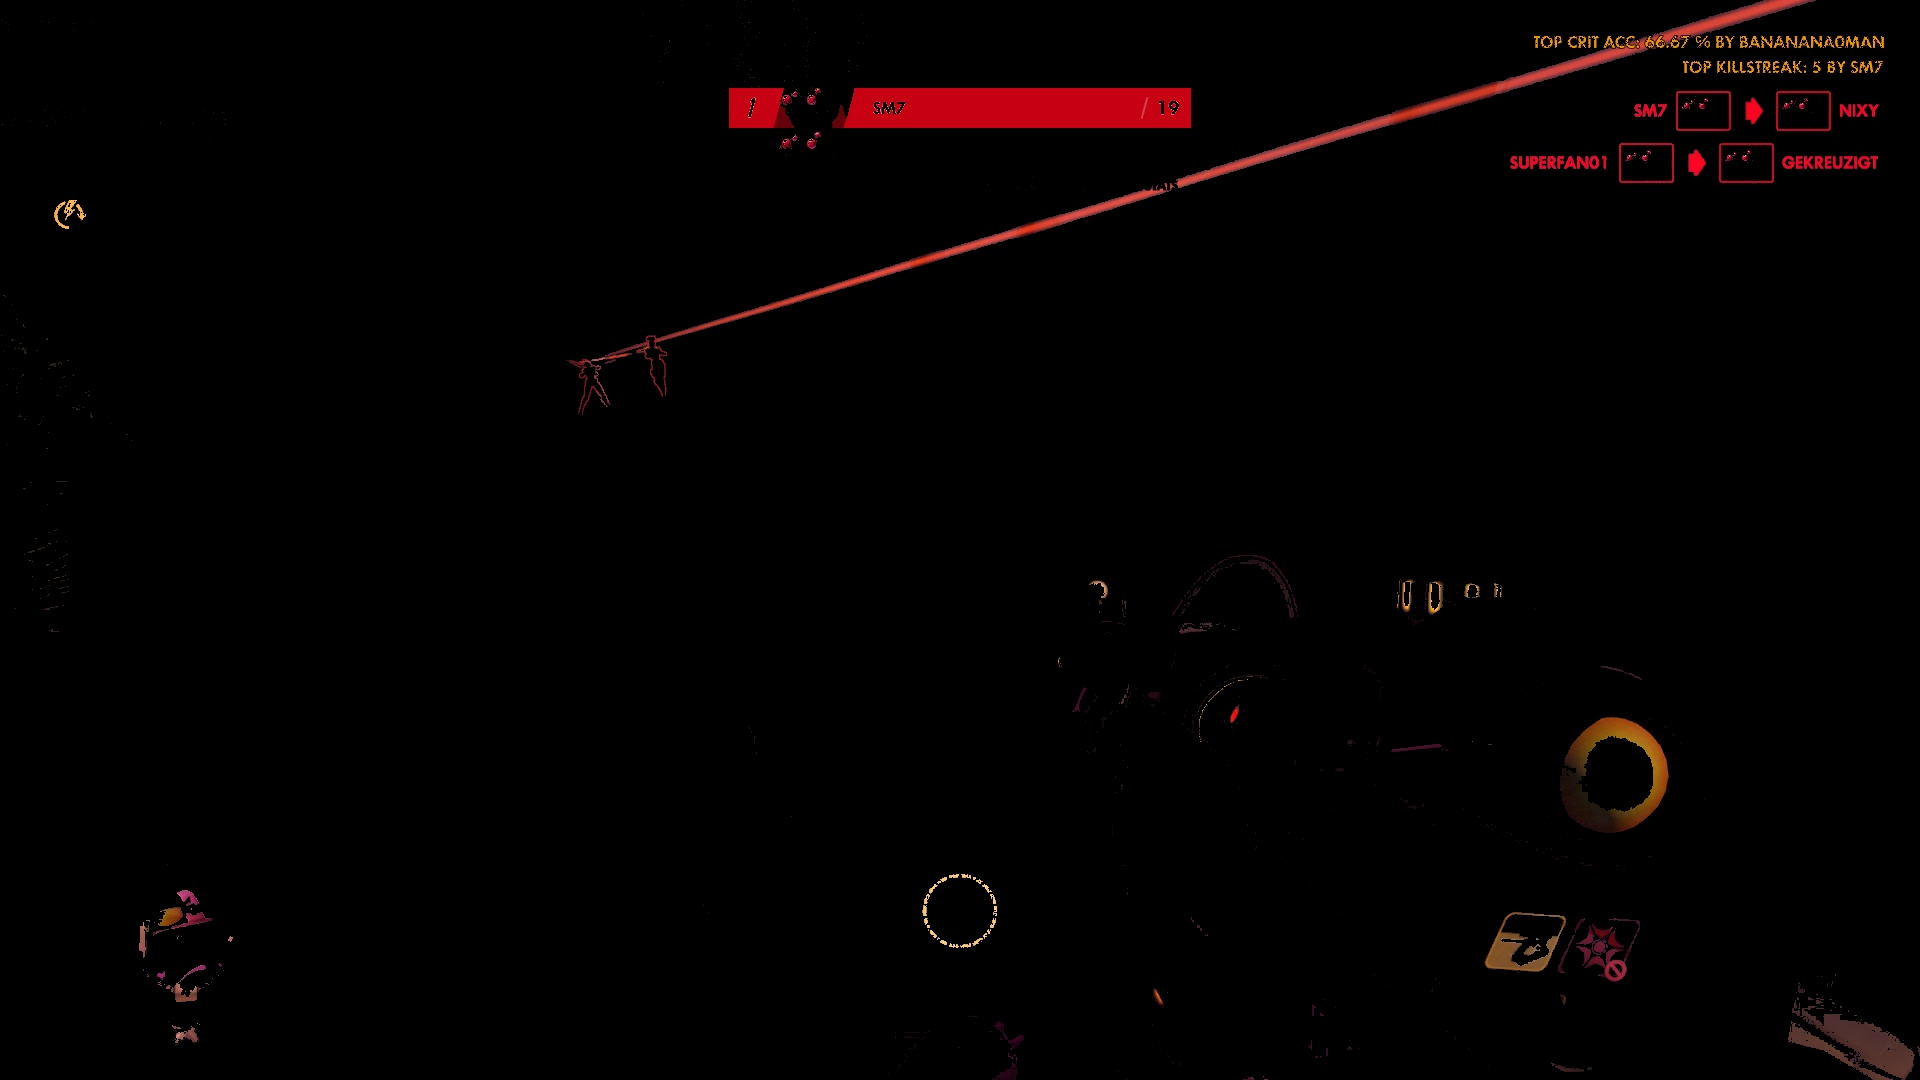widowmaker: (572, 357, 615, 411), (640, 336, 669, 397)
